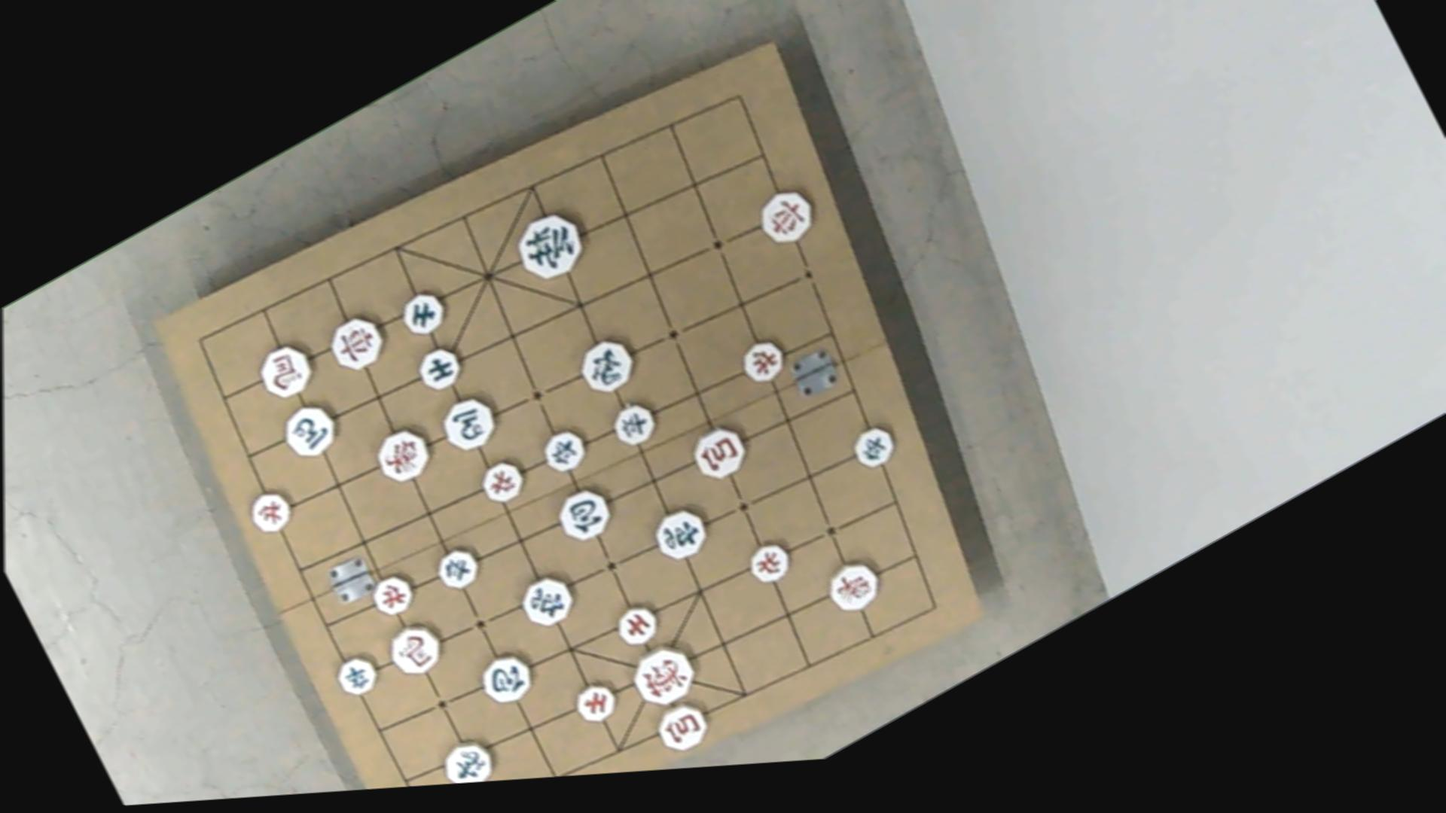cha_green: (514, 566, 580, 634), (648, 498, 713, 566)
cha_red: (752, 179, 822, 251), (323, 309, 390, 379)
jol_green: (608, 396, 661, 452), (537, 422, 590, 477), (846, 421, 898, 475), (431, 540, 483, 593), (331, 649, 381, 702)
jol_red: (738, 330, 792, 387), (243, 483, 296, 537), (477, 452, 529, 507), (743, 537, 795, 590), (368, 568, 418, 621)
ma_green: (438, 387, 503, 457), (276, 397, 341, 464)
ma_red: (250, 336, 316, 405), (383, 616, 446, 684)
po_green: (551, 477, 616, 546), (473, 645, 538, 714)
po_red: (684, 419, 749, 486), (652, 693, 713, 756)
sa_green: (413, 337, 468, 394), (397, 283, 449, 339)
sa_red: (609, 599, 662, 653), (572, 675, 622, 728)
sang_green: (572, 330, 640, 400), (436, 730, 498, 784)
sang_red: (370, 419, 438, 489), (819, 553, 883, 620)
wang_green: (510, 202, 592, 288)
wang_red: (627, 635, 702, 714)
